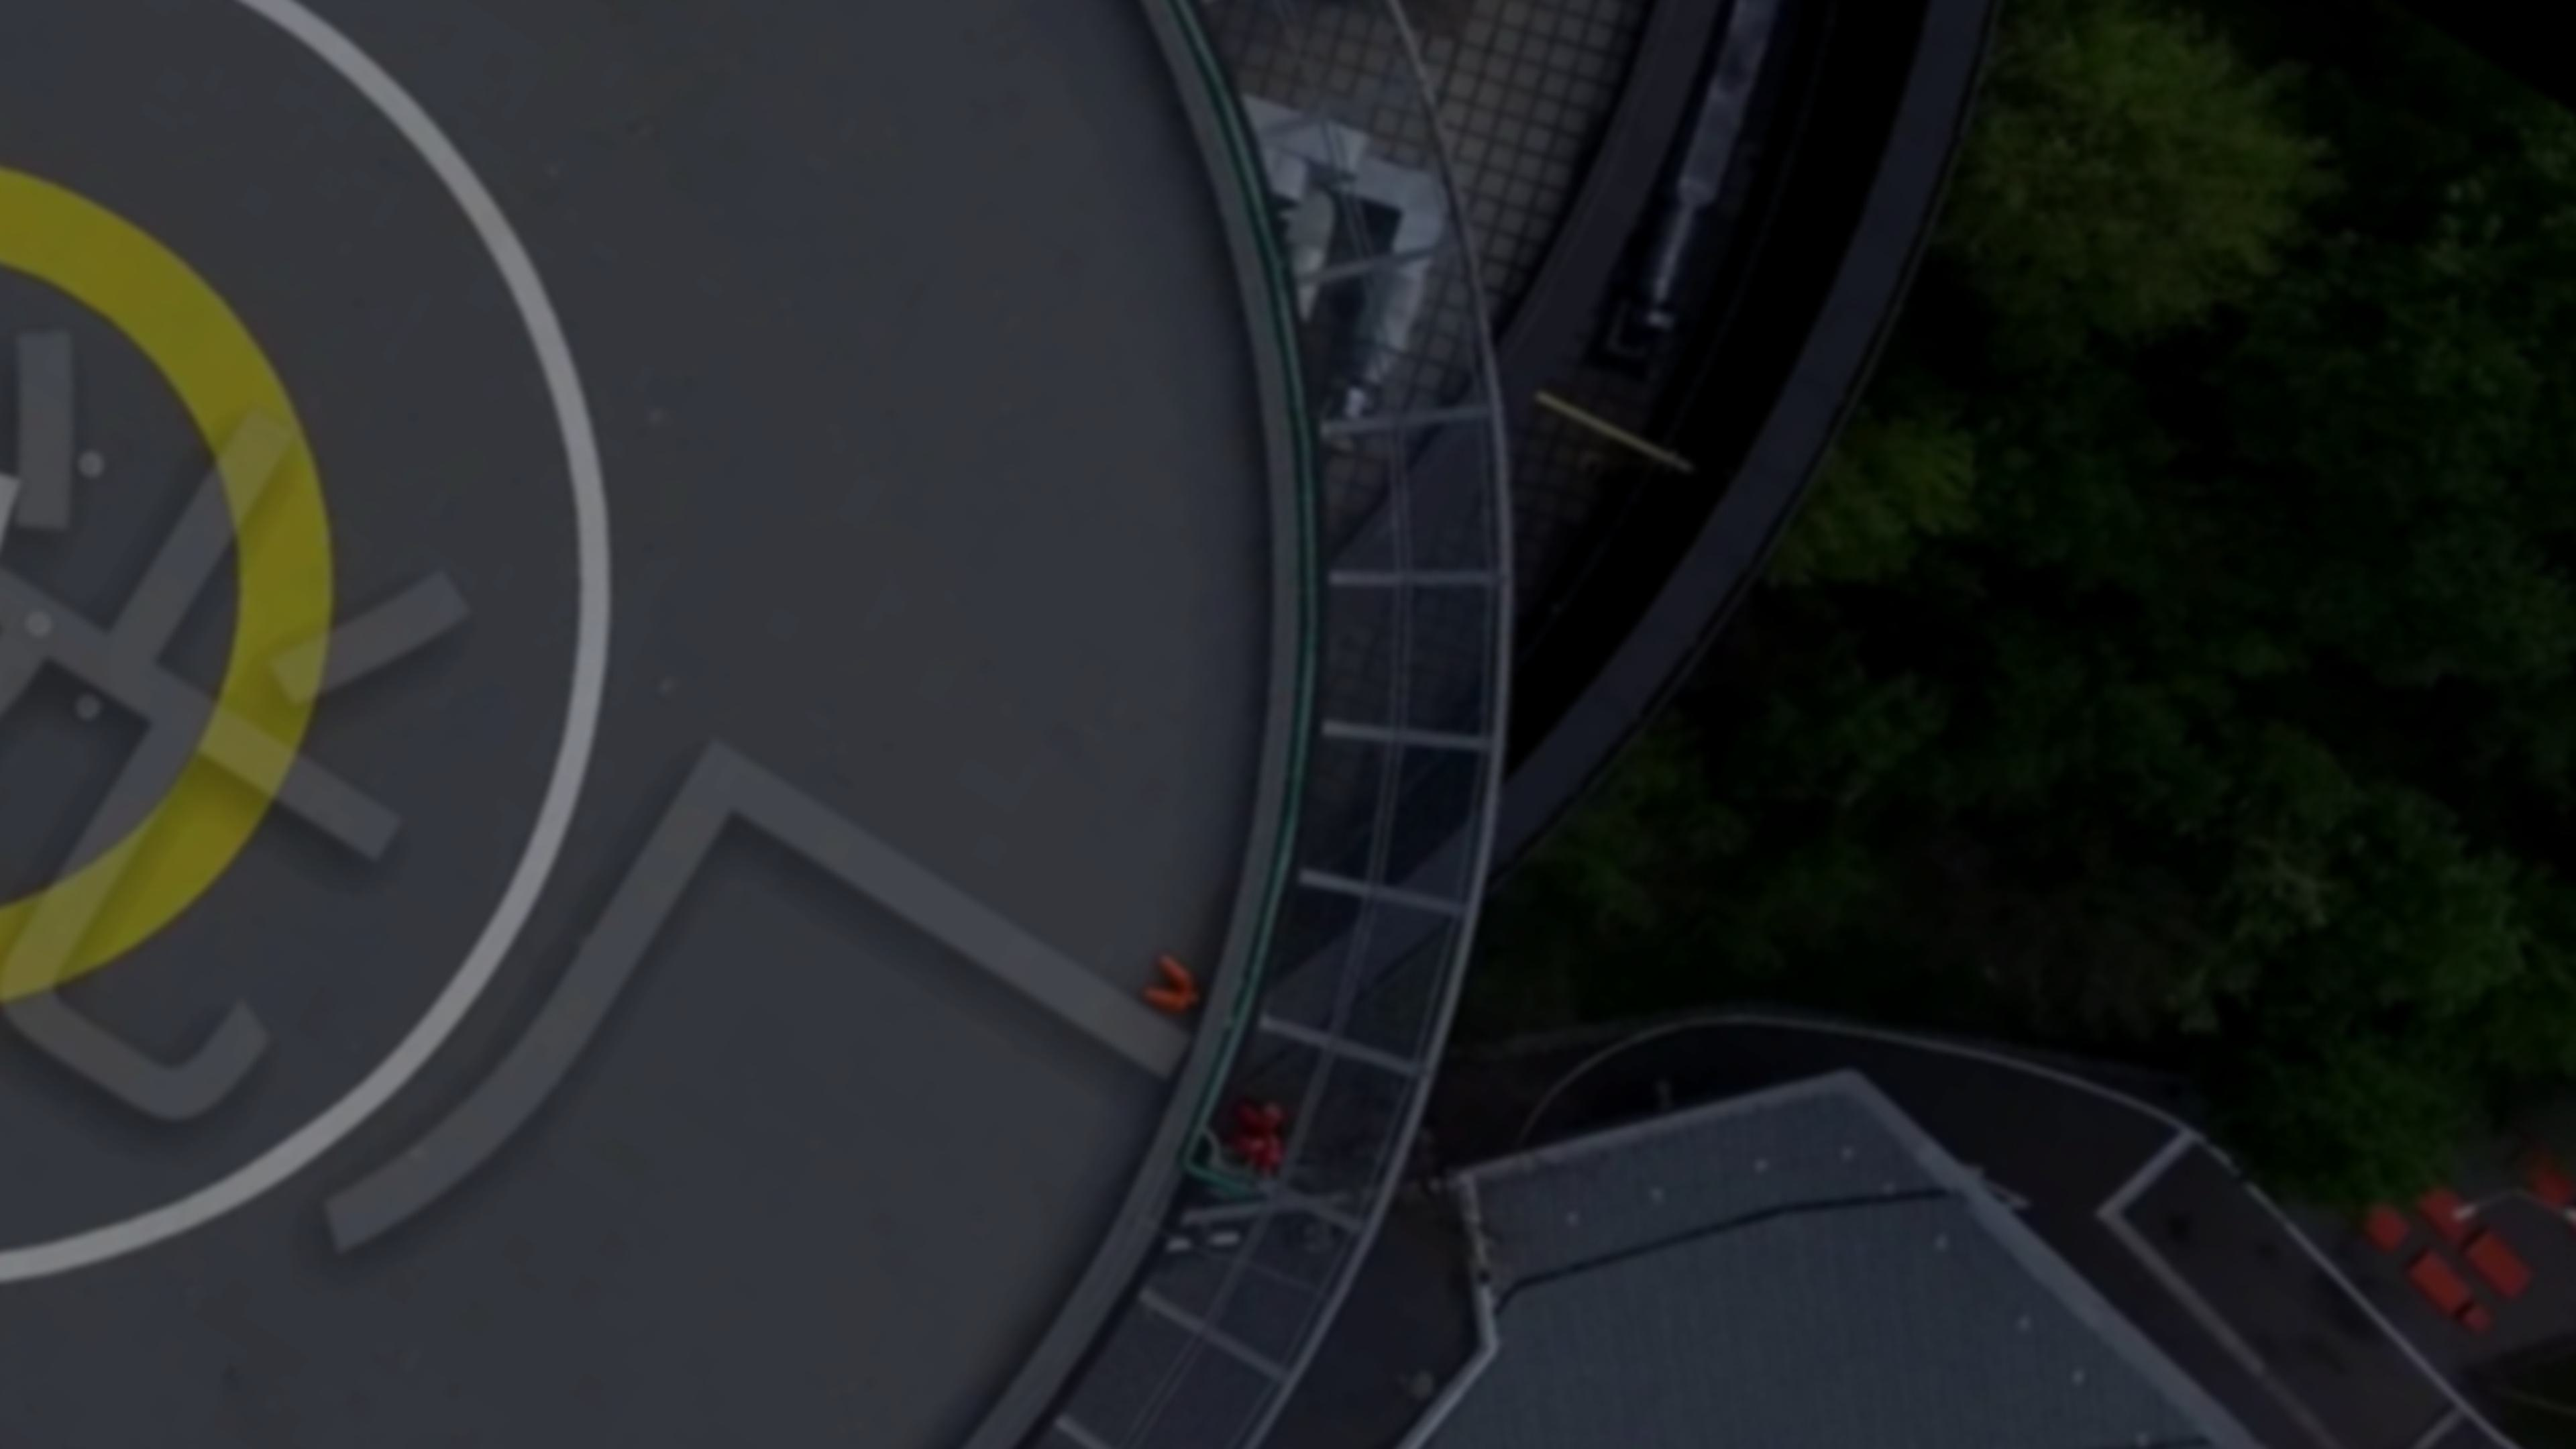Apron: (0, 140, 377, 1039)
